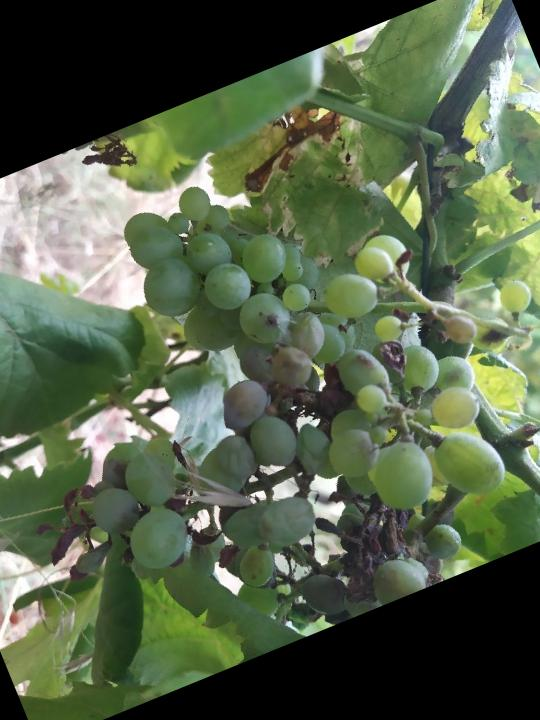grape: (0, 207, 540, 719)
